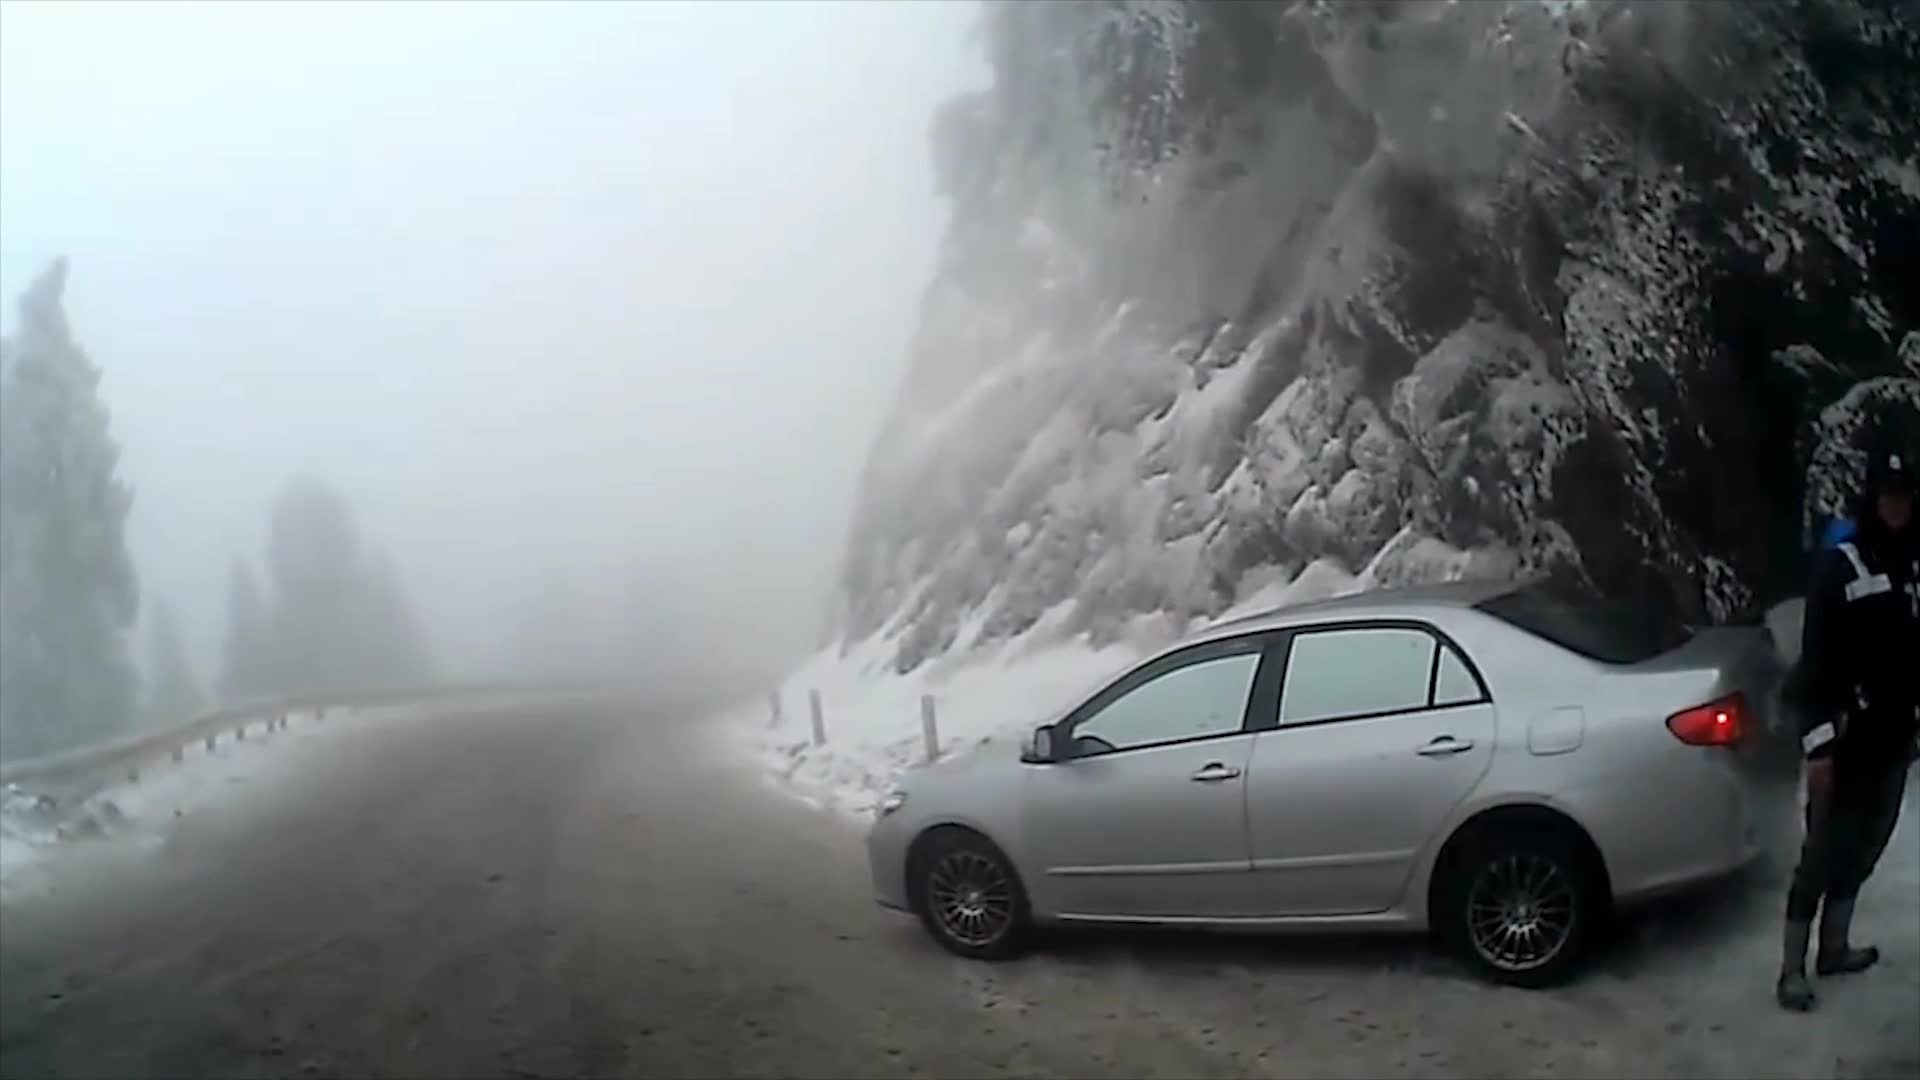pedestrian: (1778, 453, 1920, 1013)
vehicle: (863, 581, 1807, 992)
